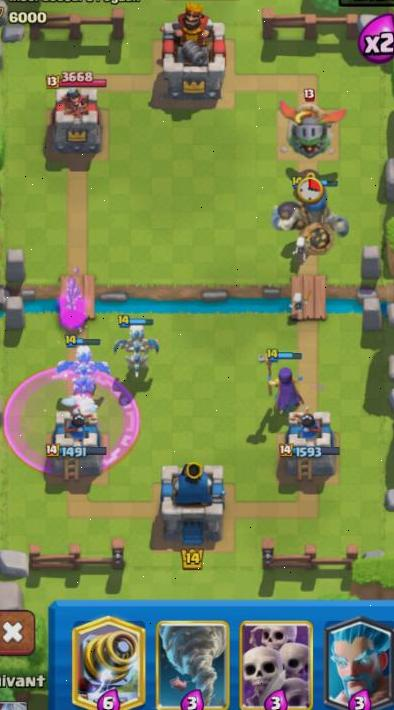enemy_inferno_dragon: (274, 88, 348, 161)
player_giant_skeleton: (269, 172, 351, 257)
player_skeleton_dragon: (52, 334, 110, 395), (110, 312, 162, 378)
player_skeletons: (282, 289, 312, 319)
player_witch: (256, 347, 306, 418)
rage: (0, 355, 146, 481)
